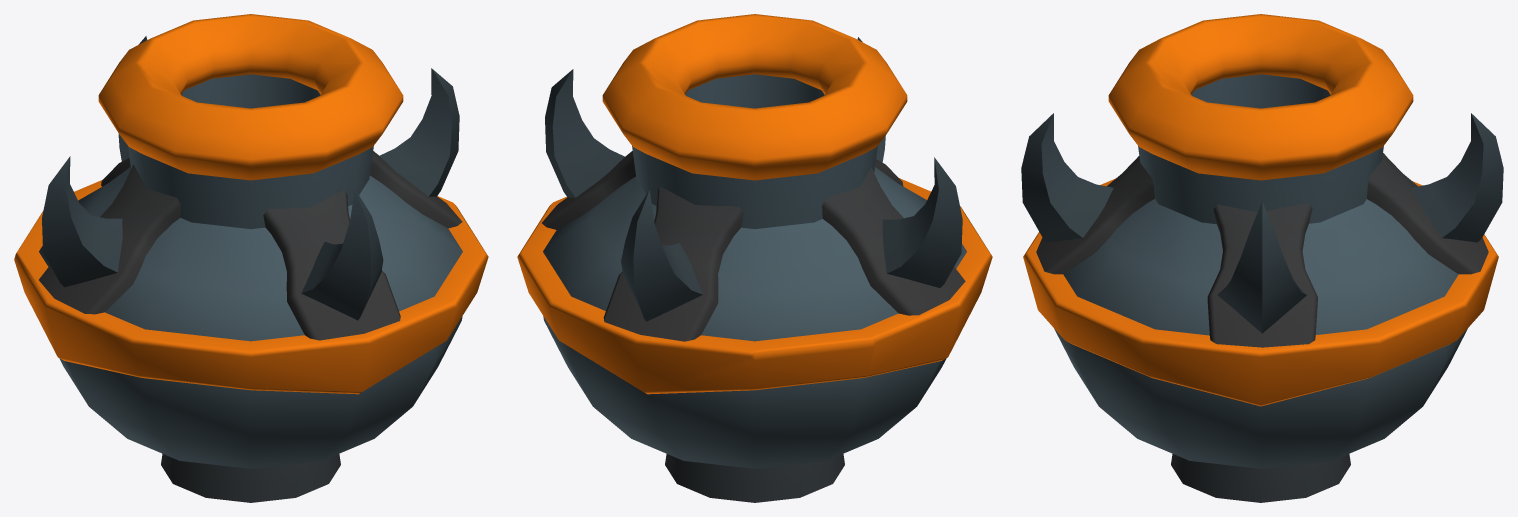
Rendered from inferno-vase-001.glb.
The picture shows the model from 3 angles, left to right: view 1: azimuth 30°, elevation 25°; view 2: azimuth 150°, elevation 25°; view 3: azimuth 270°, elevation 25°; orthographic projection.
Parts seen in each view (by area): view 1: Vase_001; view 2: Vase_001; view 3: Vase_001.
Part boxes in pixels (x1,y1,x2,y2): Vase_001: (14, 14, 488, 502); Vase_001: (517, 14, 992, 502); Vase_001: (1021, 14, 1503, 502).
Bounding box in the file's own units: 1.34 × 1.23 × 1.34.
2 materials, 2 textured.
